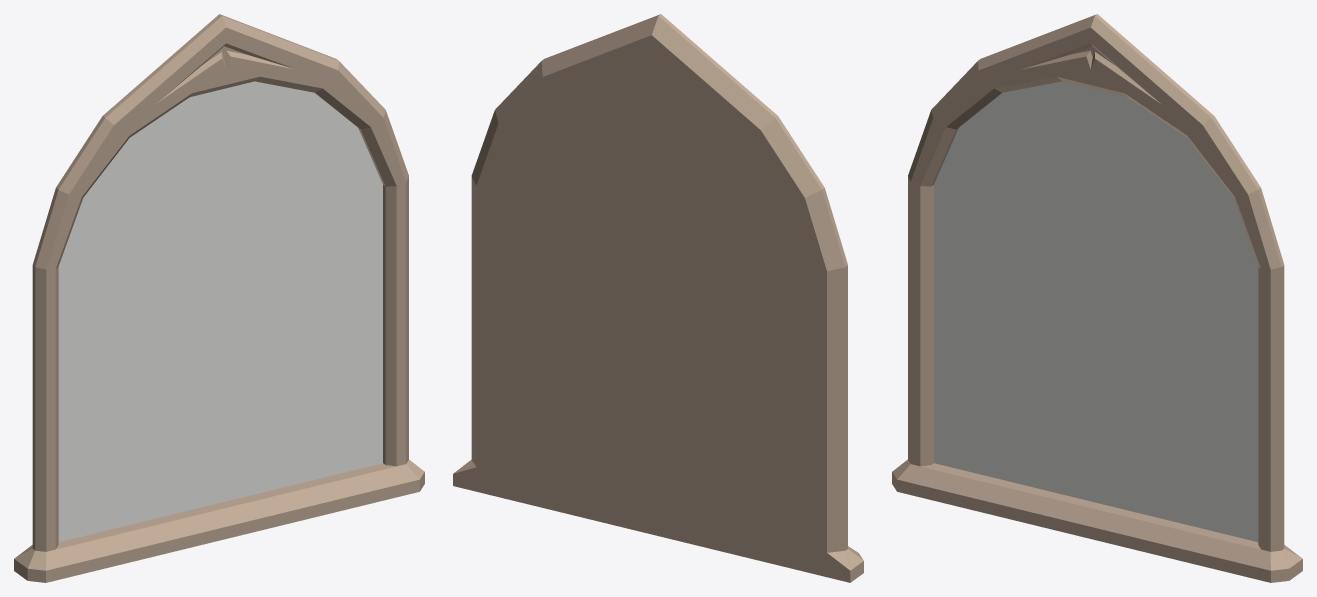
The model's file is Prop_Bedroom_Dresser_Mirror.glb.
3 renders of one model, left to right at view 1: azimuth 30°, elevation 25°; view 2: azimuth 150°, elevation 25°; view 3: azimuth 330°, elevation 25°, orthographic.
Visible parts, largest first — view 1: Prop_Bedroom_Dresser_Mirror; view 2: Prop_Bedroom_Dresser_Mirror; view 3: Prop_Bedroom_Dresser_Mirror.
Boxes of the visible parts, bbox=[...] form: Prop_Bedroom_Dresser_Mirror: bbox=[14, 14, 424, 582]; Prop_Bedroom_Dresser_Mirror: bbox=[453, 14, 863, 582]; Prop_Bedroom_Dresser_Mirror: bbox=[892, 14, 1302, 582].
Bounding box in the file's own units: 0.85 × 1.05 × 0.075.
